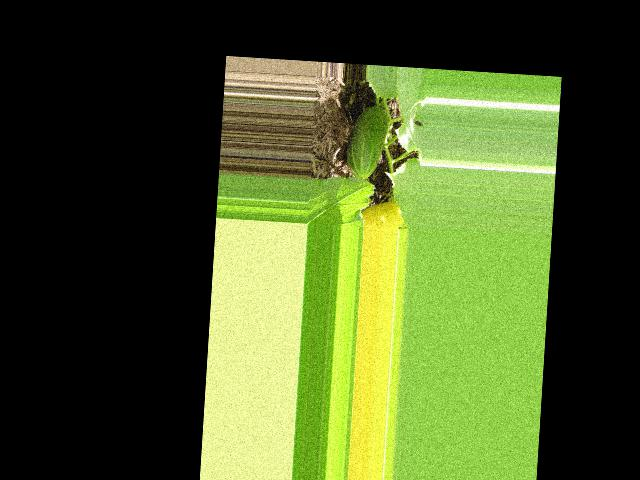cucumber: (344, 103, 389, 180)
